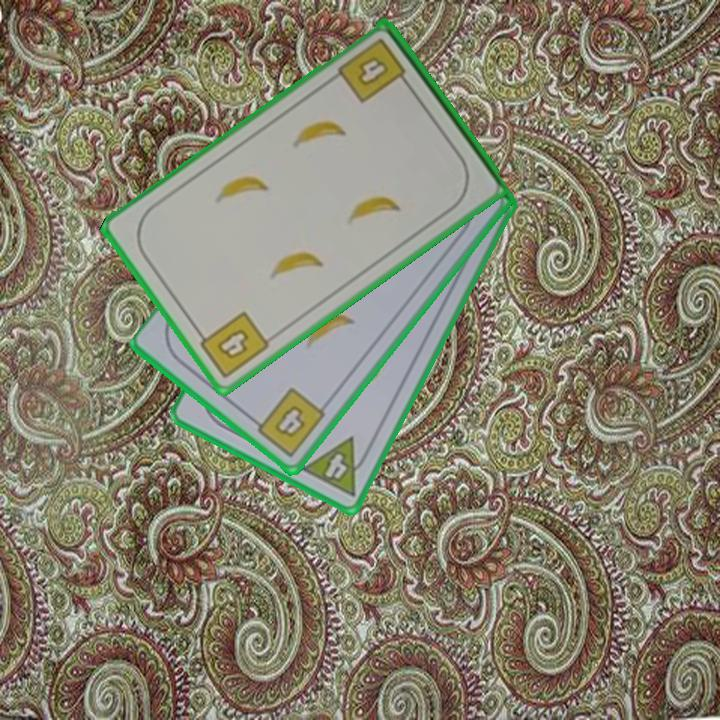4b: (247, 384, 329, 461), (192, 308, 273, 382), (334, 34, 413, 107)
4p: (297, 433, 375, 500)
